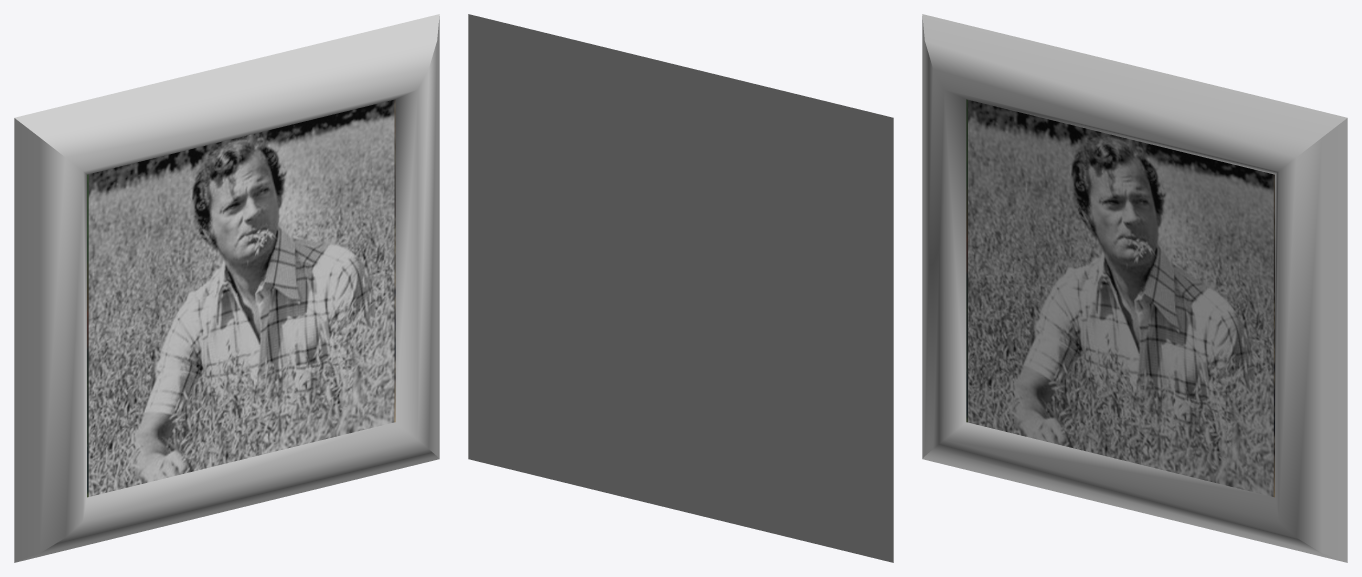
Rendered from EN_P_Frame5.fbx.
The picture shows the model from 3 angles, left to right: view 1: azimuth 30°, elevation 25°; view 2: azimuth 150°, elevation 25°; view 3: azimuth 330°, elevation 25°; orthographic projection.
Parts seen in each view (by area): view 1: frame5; view 2: frame5; view 3: frame5.
Boxes of the visible parts, left/top/right/bottom form: frame5: left=14, top=14, right=439, bottom=562; frame5: left=468, top=14, right=893, bottom=562; frame5: left=922, top=14, right=1347, bottom=562.
Bounding box in the file's own units: 36.91 × 36.91 × 3.52.
